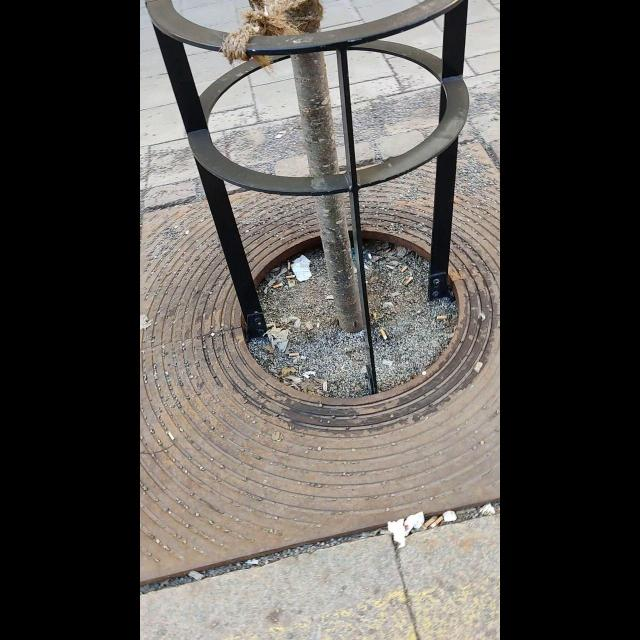cigarette: (186, 568, 205, 582), (422, 514, 437, 528), (432, 515, 446, 528), (378, 328, 388, 343), (474, 361, 483, 376), (322, 378, 330, 394), (383, 358, 394, 368), (166, 431, 176, 442), (290, 350, 302, 357), (273, 283, 285, 290), (436, 314, 449, 320), (406, 276, 412, 287), (286, 274, 296, 278), (402, 265, 406, 274), (287, 261, 291, 269), (373, 313, 379, 317)
